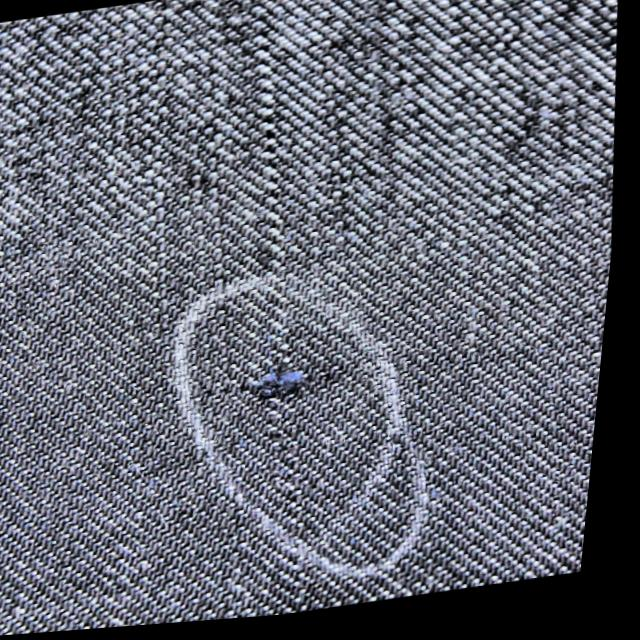Hole: (232, 360, 349, 419)
